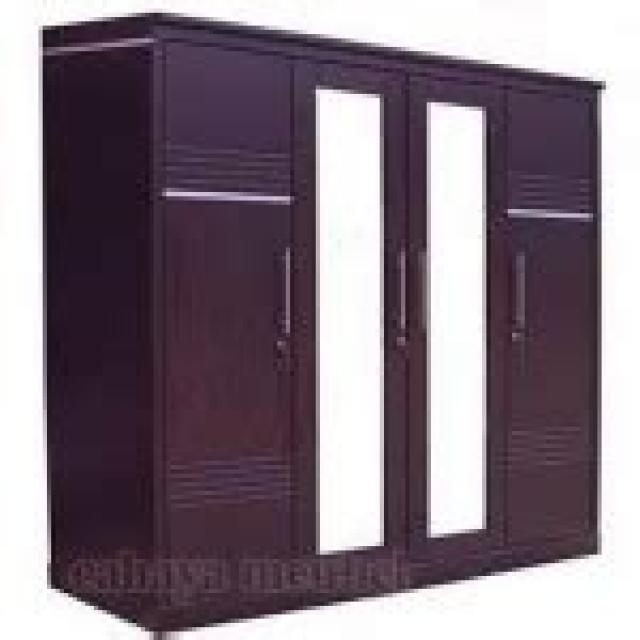Closet: (34, 4, 610, 640)
